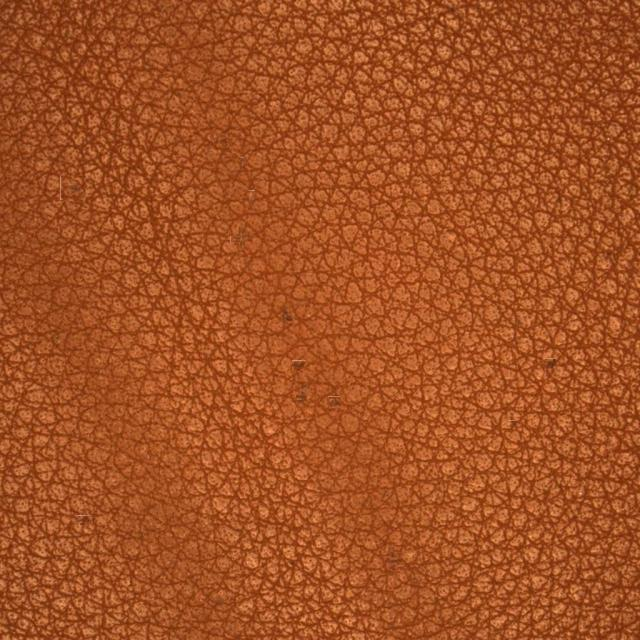Scratch: (223, 229, 375, 438)
pinhole: (490, 281, 610, 431)
